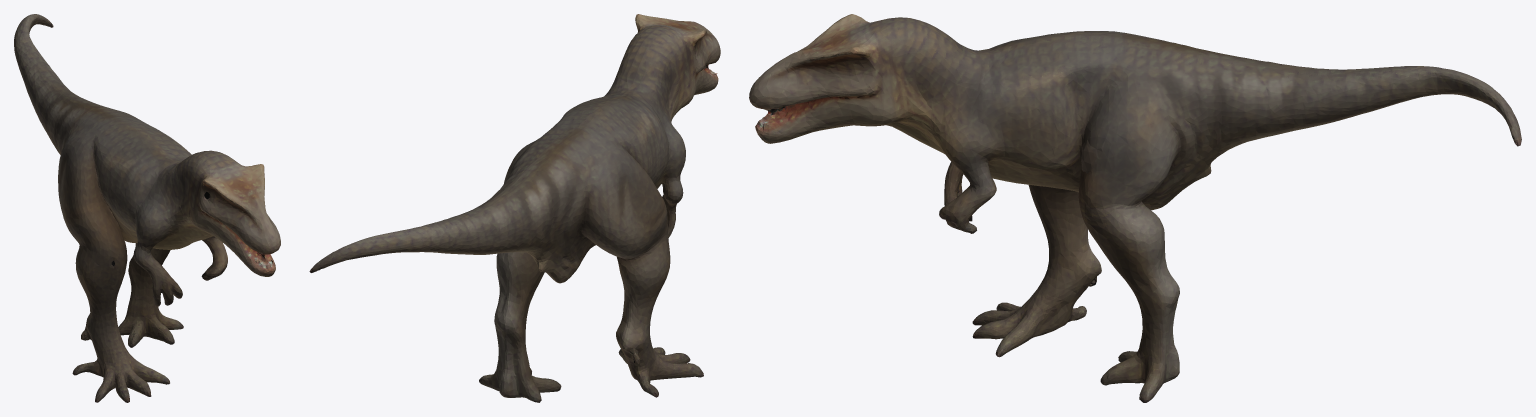
3 views of the same model, side by side, from view 1: azimuth 30°, elevation 25°; view 2: azimuth 150°, elevation 25°; view 3: azimuth 270°, elevation 25° (orthographic). The views are drawn at different scales.
Visible parts, largest first — view 1: world; view 2: world; view 3: world.
Part boxes in pixels (<box>): world: <box>14,14,280,402</box>; world: <box>309,14,720,402</box>; world: <box>749,14,1521,402</box>.
Bounding box in the file's own units: 3.79 × 6.13 × 12.5.
1 material, 1 textured.
